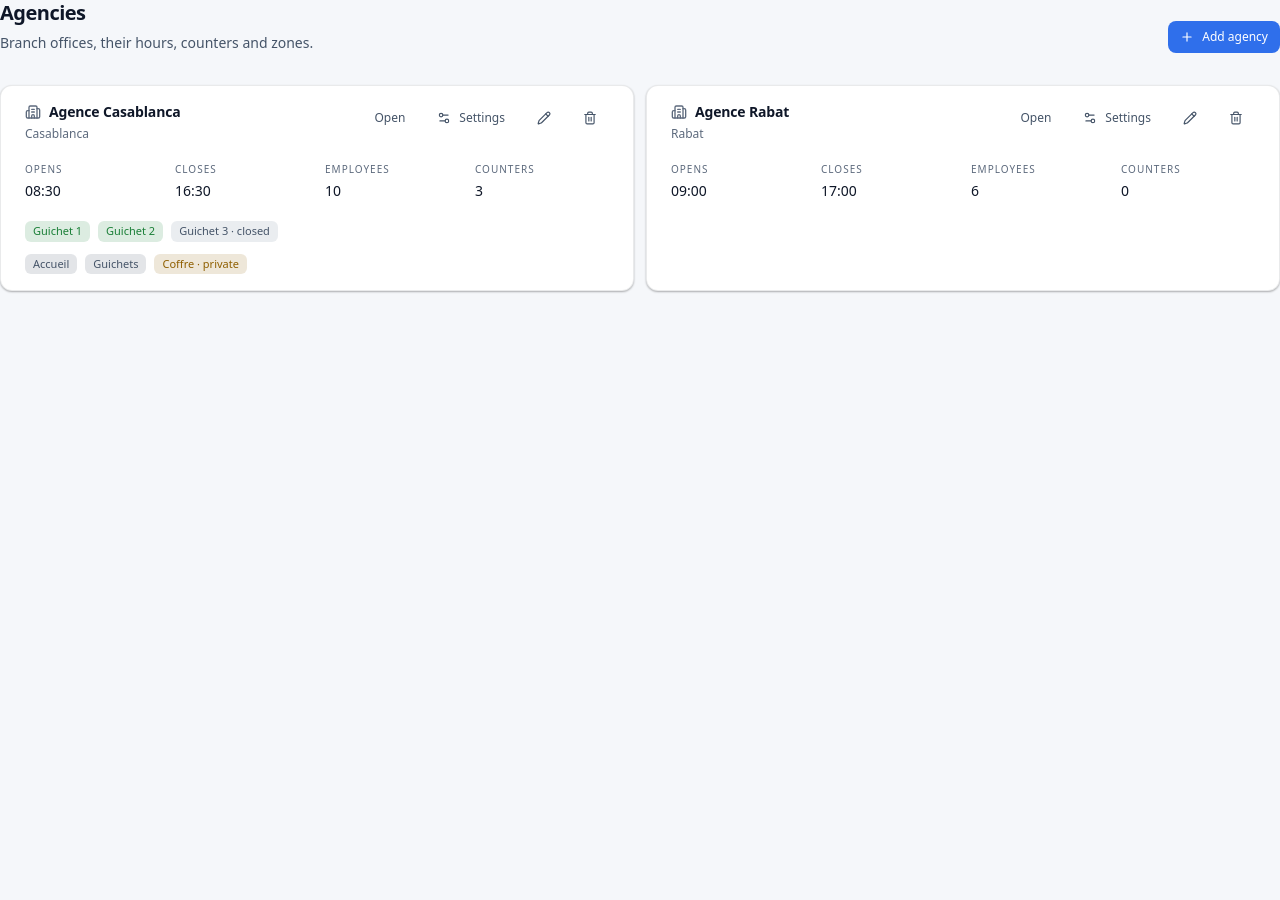
Test: Agencies › delete confirmation › offers deactivating instead, which keeps the history
The width and height of the screenshot is (1280, 900).
Expected: the heading "Agence Casablanca" is shown, x1=49 y1=102 x2=180 y2=122
Click the button named "delete agence casablanca": (590, 118) x1=571 y1=102 x2=609 y2=134
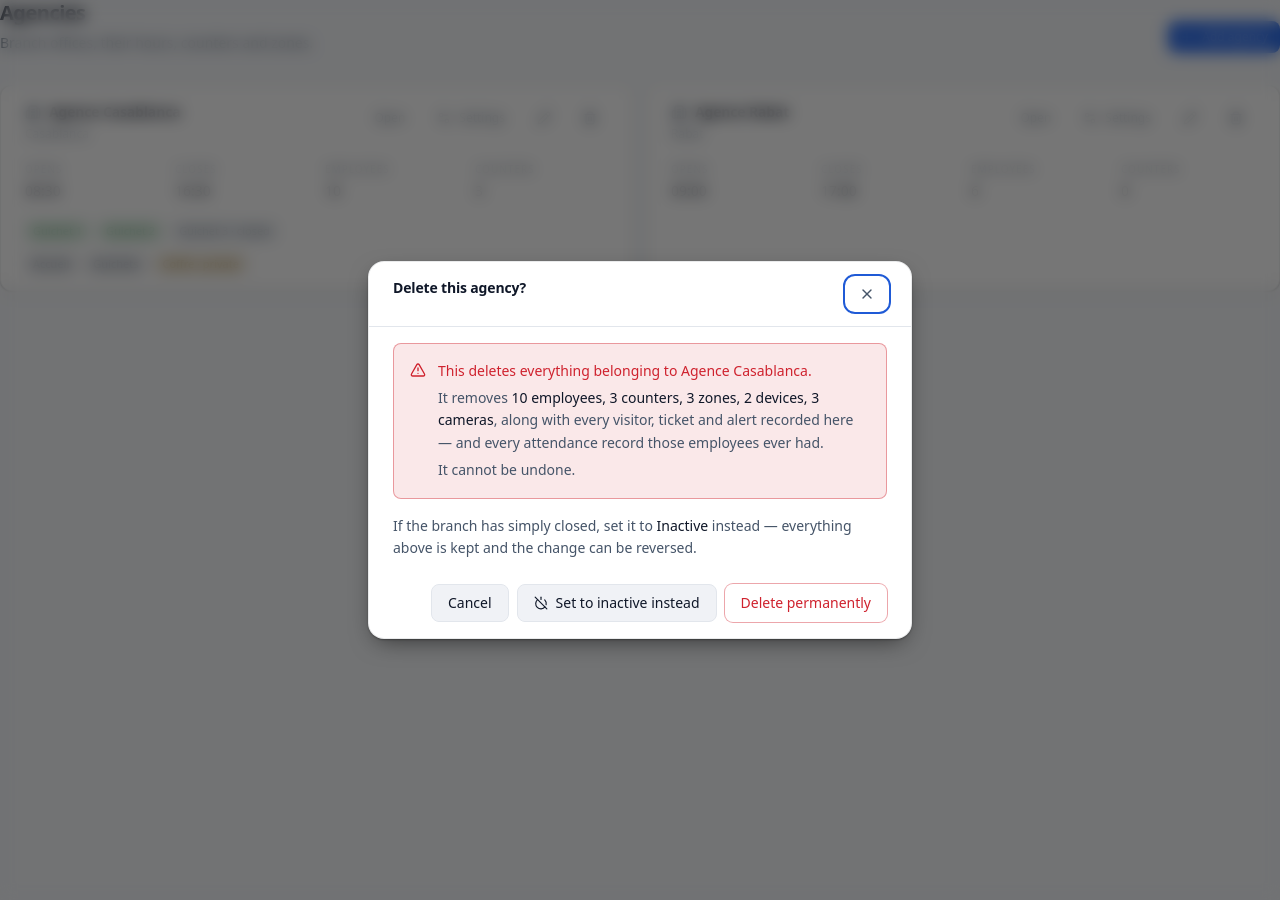
Now the button "Set to inactive instead" is shown, box x1=517 y1=584 x2=717 y2=622
